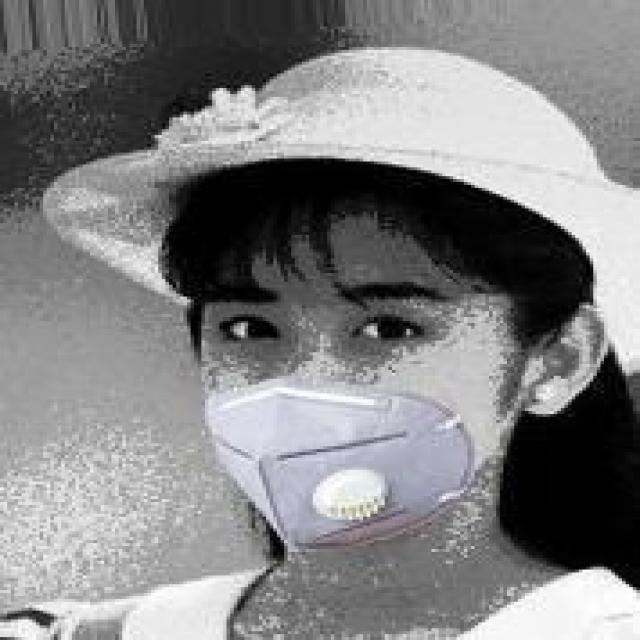mask: (126, 106, 546, 549)
